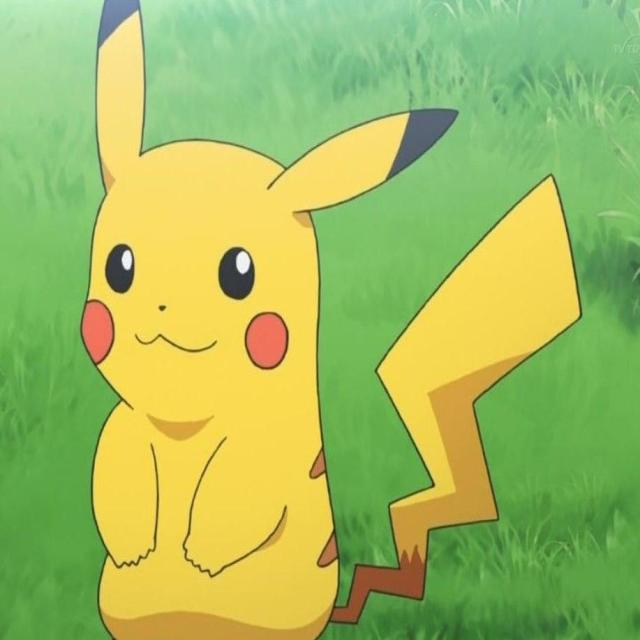pikachu: (82, 0, 584, 640)
